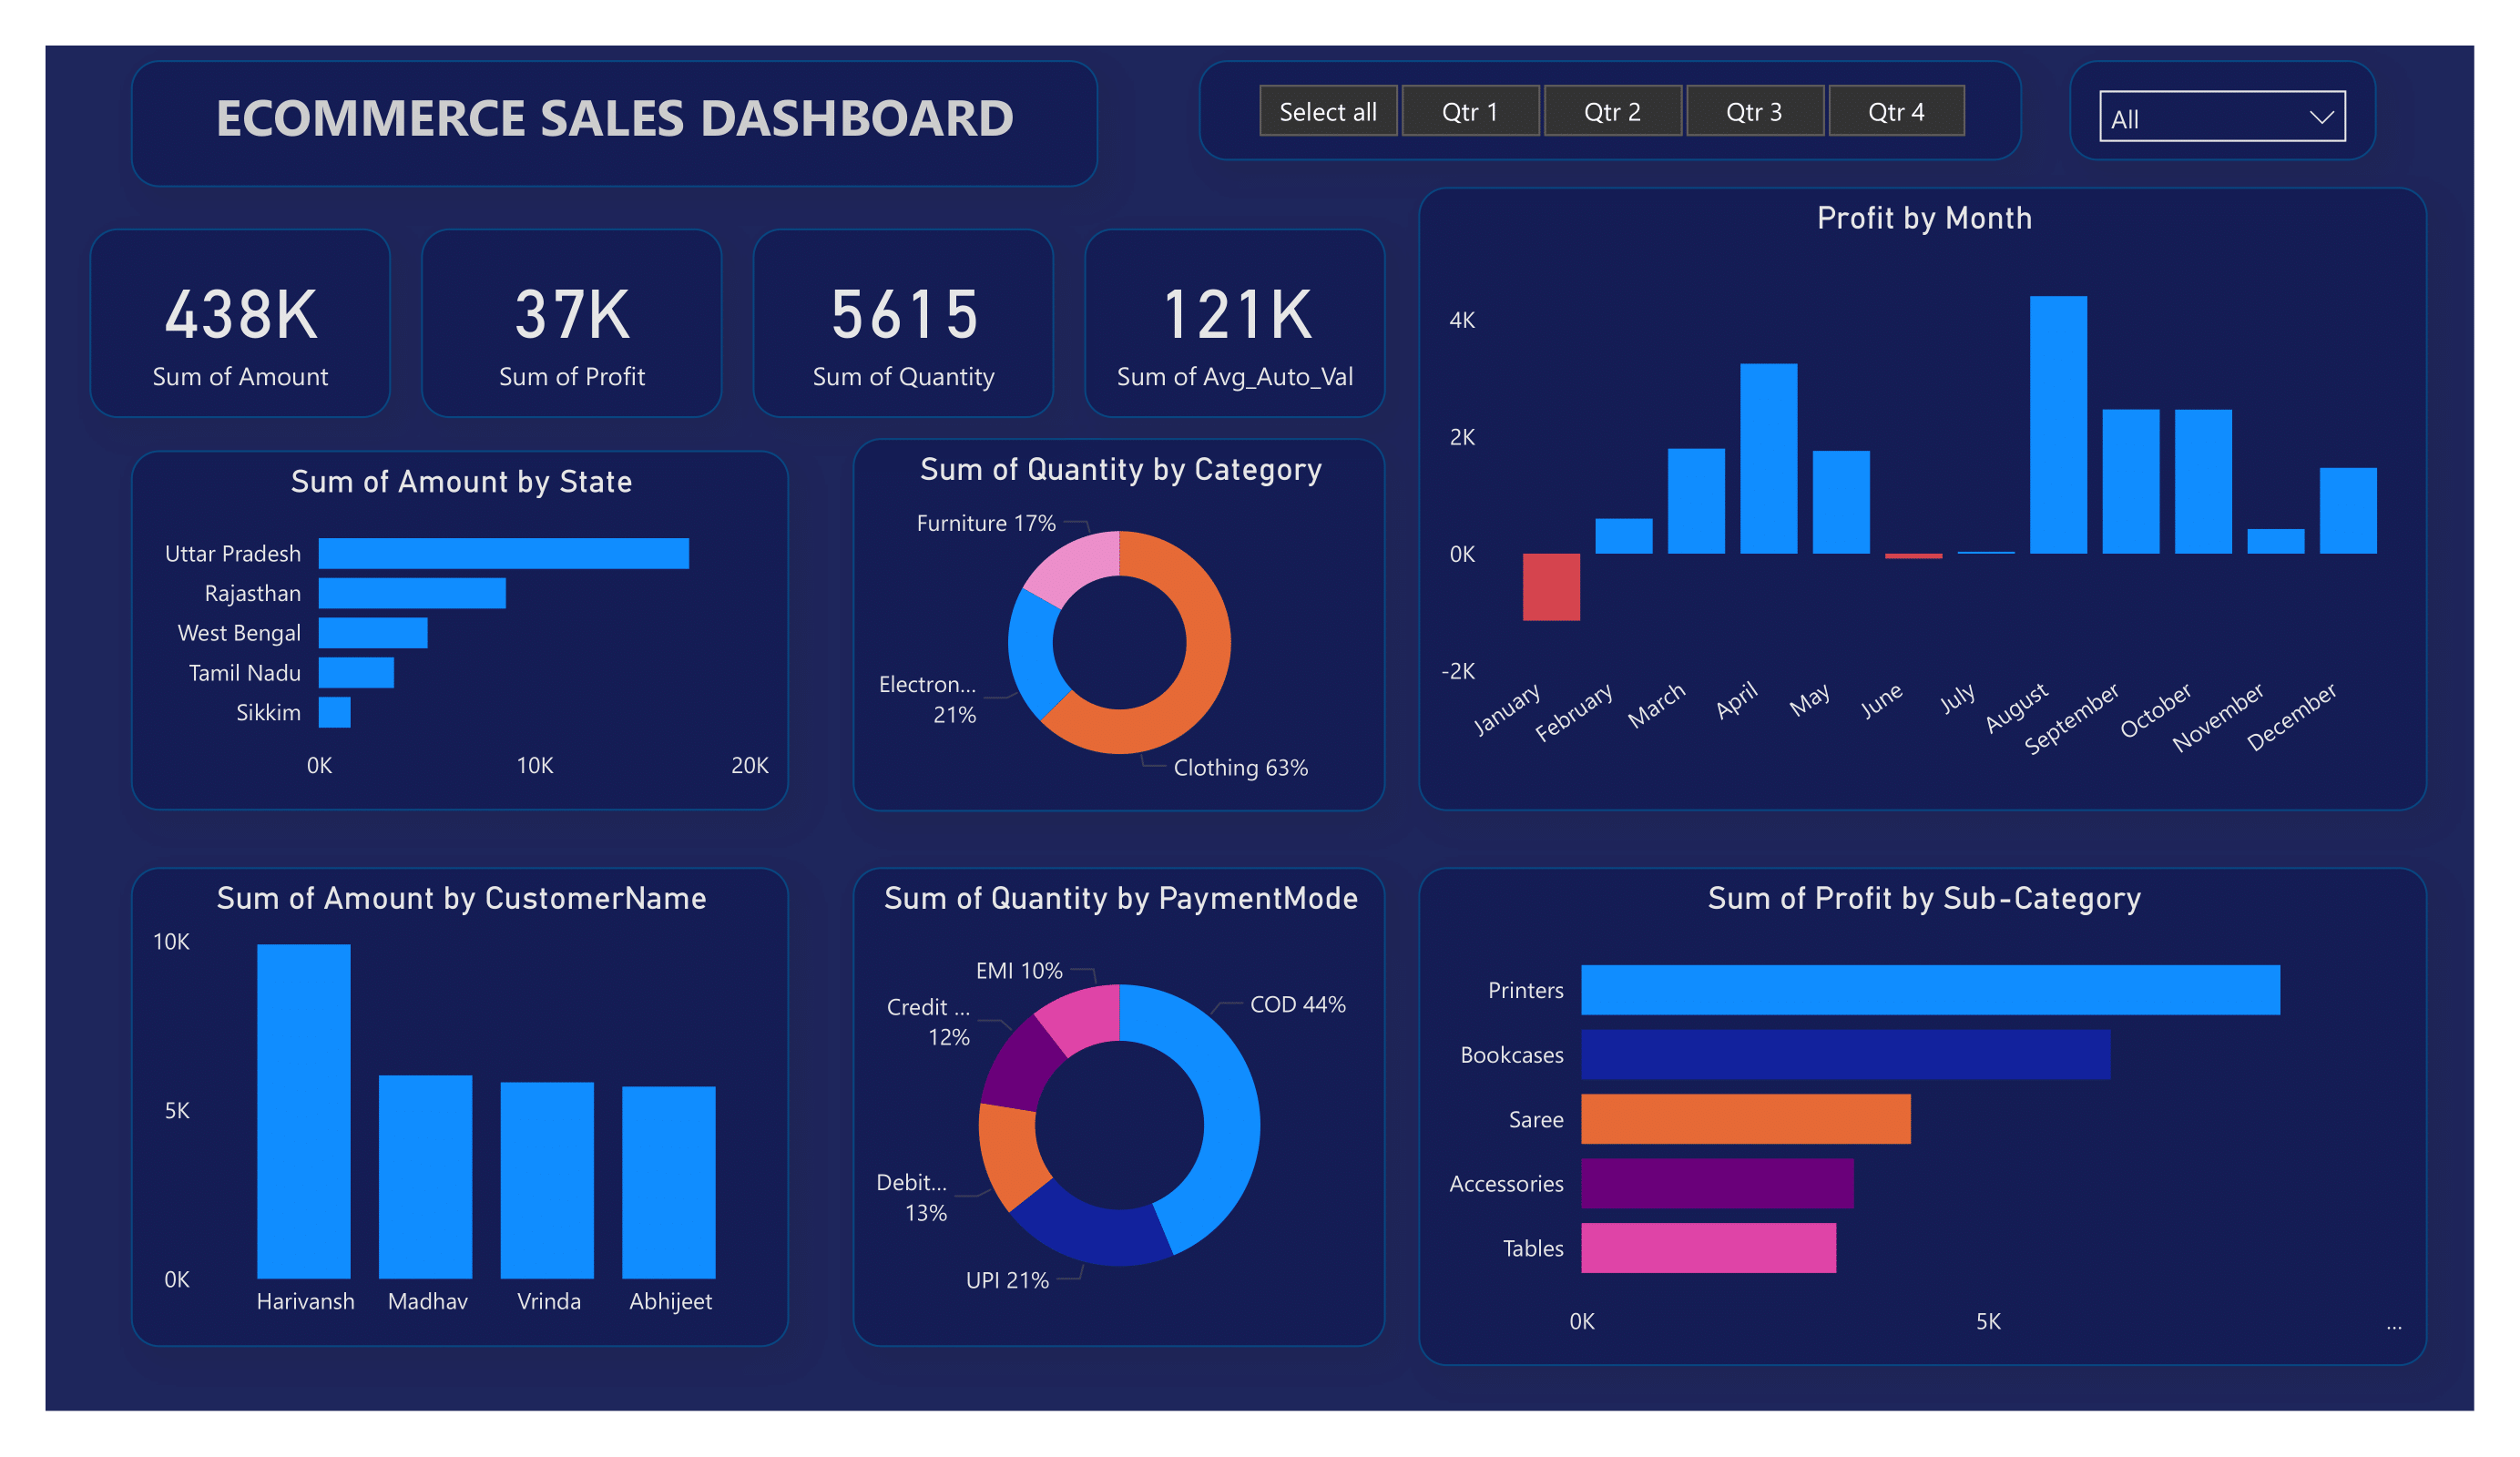

Layout of this report page (visuals, bound fields, positions):
{"tool":"powerbi","page":{"name":"Page 1","canvas":[1280,720],"ordinal":0},"visuals":[{"type":"textbox","box":[45,7.7,510.2,66.8],"z":0},{"type":"columnChart","title":"Profit by Month","fields":{"Category":["Orders.Order Date.Variation.Date Hierarchy.Month"],"Y":["Details.Profit"]},"box":[723.5,74.5,532,329],"z":1000},{"type":"barChart","title":"Sum of Profit by Sub-Category","fields":{"Category":["Details.Sub-Category"],"Y":["Details.Profit"],"Series":["Details.Sub-Category"]},"box":[723.5,433.1,532,263.5],"z":2000},{"type":"donutChart","fields":{"Category":["Details.Category"],"Y":["Details.Quantity"]},"box":[425.4,206.9,281.4,196.6],"z":3000},{"type":"donutChart","fields":{"Y":["Details.Quantity"],"Category":["Details.PaymentMode"]},"box":[425.4,433.1,281.4,253.2],"z":4000},{"type":"card","fields":{"Values":["Details.Amount"]},"box":[23.1,96.4,159.4,100.2],"z":5000},{"type":"card","fields":{"Values":["Details.Profit"]},"box":[197.9,96.4,159.4,100.2],"z":5001},{"type":"card","fields":{"Values":["Details.Quantity"]},"box":[372.7,96.4,159.4,100.2],"z":5002},{"type":"card","fields":{"Values":["Details.Avg_Auto_Val"]},"box":[547.5,96.4,159.4,100.2],"z":5003},{"type":"barChart","title":"Sum of Amount by State","fields":{"Category":["Orders.State"],"Y":["Details.Amount"]},"box":[45,213.3,347,190.2],"z":5004},{"type":"columnChart","fields":{"Category":["Orders.CustomerName"],"Y":["Details.Amount"]},"box":[45,433,347,253],"z":5005},{"type":"slicer","fields":{"Values":["Orders.Order Date.Variation.Date Hierarchy.Quarter"]},"box":[607.9,7.7,434.4,52.7],"z":5006},{"type":"slicer","fields":{"Values":["Orders.State"]},"box":[1066.7,7.7,161.9,52.7],"z":5007}]}

Visuals, with their boxes on the page's 1280x720 design canvas (x1, y1, x2, y2). These are canvas units, not pixel positions in the 2520x1457 screenshot, which may show the page scaled, cropped or inside an application window:
textbox: bbox(45, 8, 555, 74)
"Profit by Month" columnChart: bbox(724, 74, 1256, 404)
"Sum of Profit by Sub-Category" barChart: bbox(724, 433, 1256, 697)
donutChart - Details.Category x Details.Quantity: bbox(425, 207, 707, 404)
donutChart - Details.Quantity x Details.PaymentMode: bbox(425, 433, 707, 686)
card - Details.Amount: bbox(23, 96, 182, 197)
card - Details.Profit: bbox(198, 96, 357, 197)
card - Details.Quantity: bbox(373, 96, 532, 197)
card - Details.Avg_Auto_Val: bbox(548, 96, 707, 197)
"Sum of Amount by State" barChart: bbox(45, 213, 392, 404)
columnChart - Orders.CustomerName x Details.Amount: bbox(45, 433, 392, 686)
slicer - Orders.Order Date.Variation.Date Hierarchy.Quarter: bbox(608, 8, 1042, 60)
slicer - Orders.State: bbox(1067, 8, 1229, 60)
